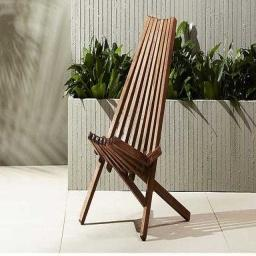Chair: (80, 18, 194, 239)
